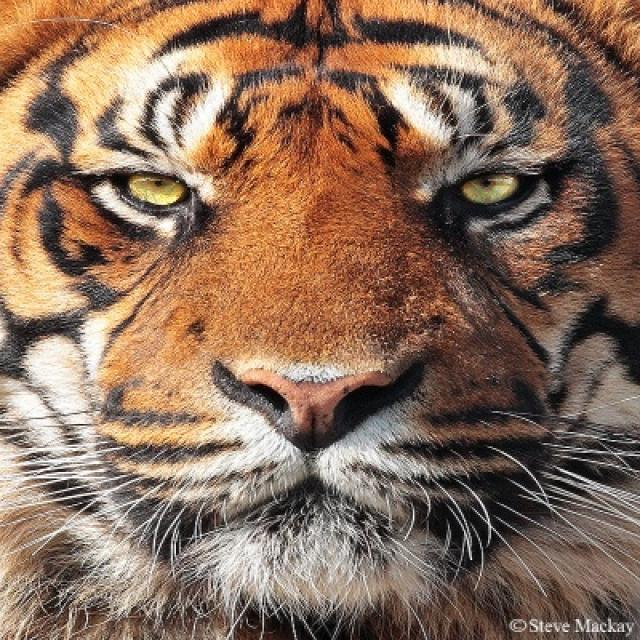Tiger: (41, 54, 602, 605)
